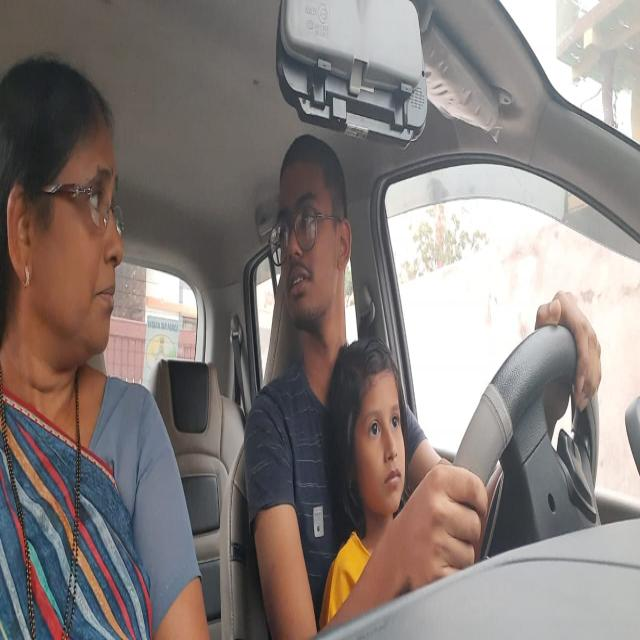LeftRight: (271, 143, 353, 331)
child: (334, 340, 414, 518)
person: (2, 59, 128, 368)
talking: (282, 265, 317, 300)
